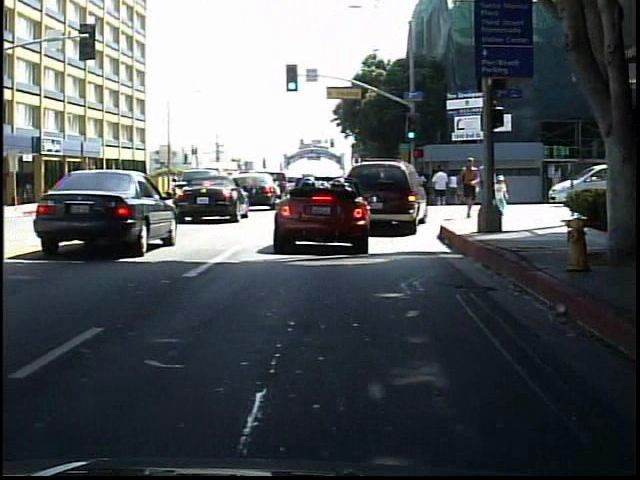person: (457, 155, 481, 222), (488, 173, 511, 214), (113, 174, 131, 204)
